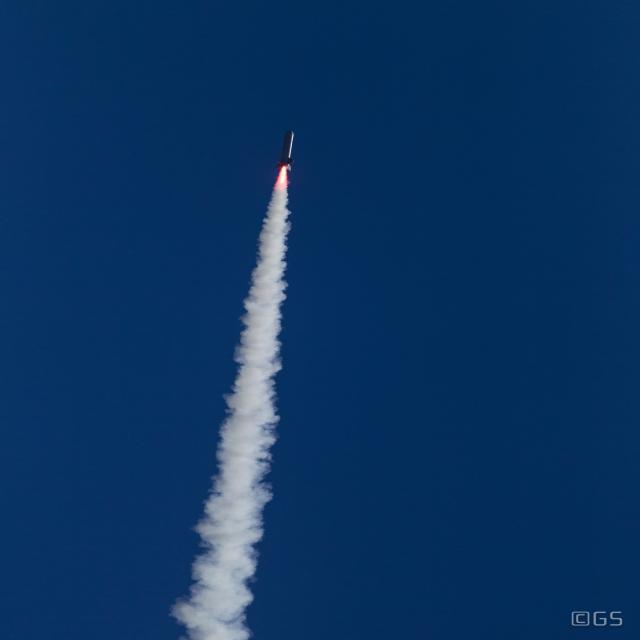Rocket: (273, 128, 296, 172)
